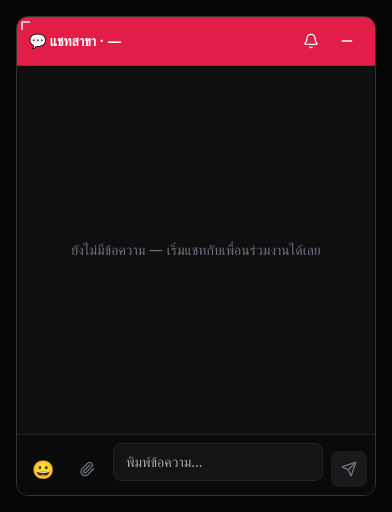
Test: V73.W4 StaffChatComposer › W4.3 typing enables send button
This screenshot has width=392, height=512.
In the text box with test id "staff-chat-composer-input": (218, 462) [113,443,323,481], type "hello"
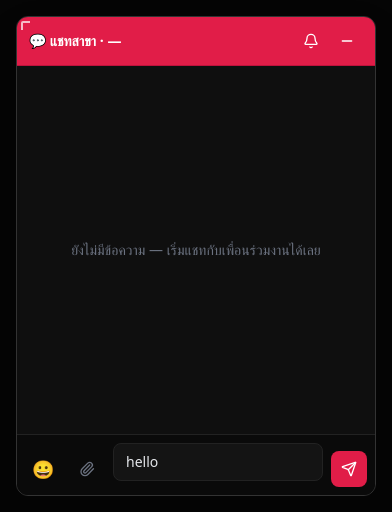
Expected: the button with test id "staff-chat-composer-send" is enabled, [331,451,367,487]
